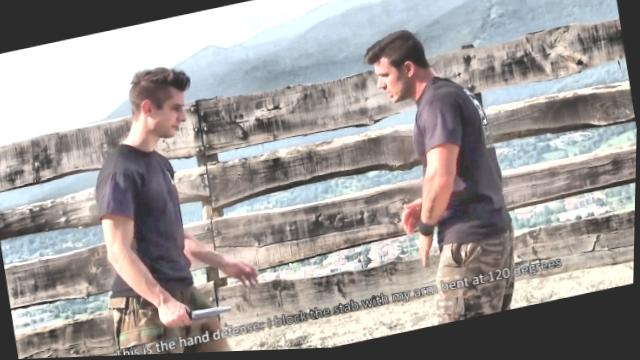knife: (156, 291, 241, 333)
